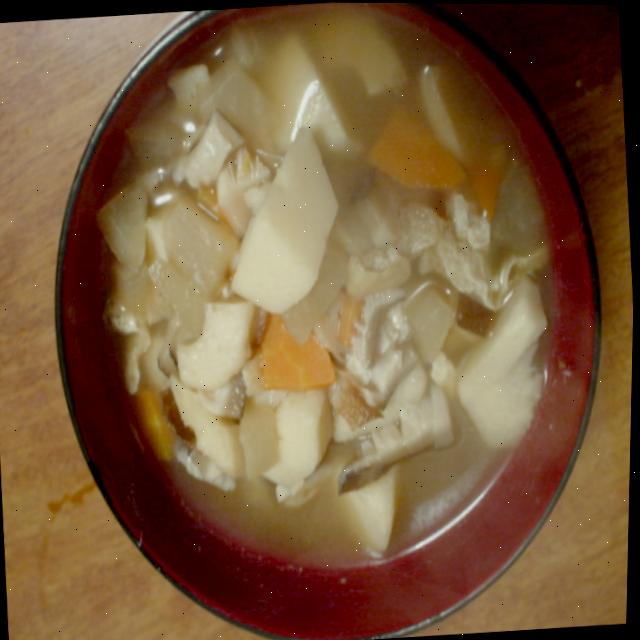蔬菜料理: (37, 0, 622, 640)
